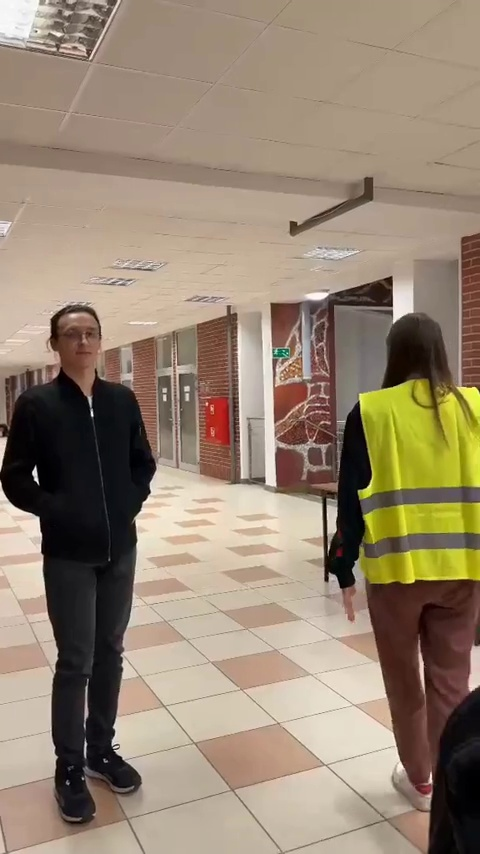no vest: (8, 304, 172, 831)
vest: (319, 310, 480, 806)
